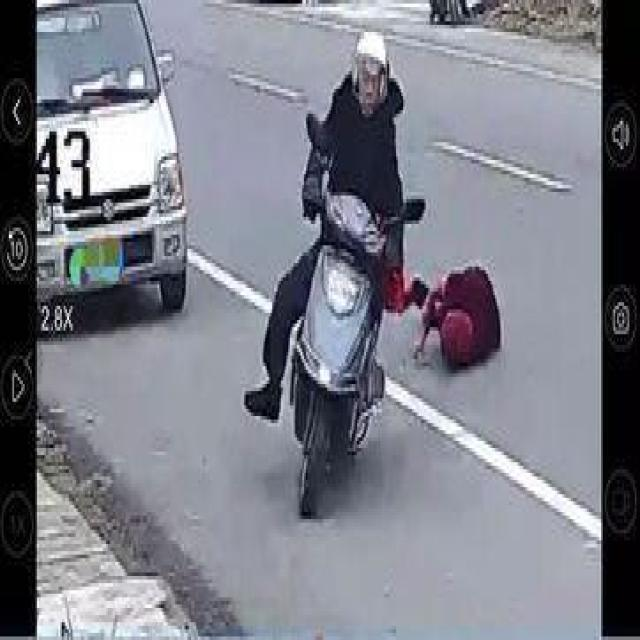fall: (403, 234, 509, 380)
nonfall: (286, 26, 422, 320)
